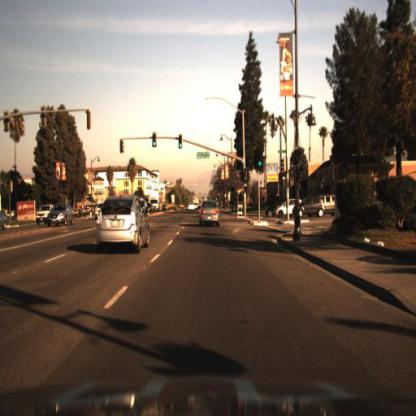car: (92, 194, 150, 252), (292, 194, 328, 219), (46, 200, 75, 231), (197, 195, 222, 228), (318, 190, 341, 217), (274, 200, 303, 220), (266, 199, 284, 221), (186, 200, 198, 216)
trafficLight: (118, 135, 126, 156)
trafficLight-Green: (255, 147, 265, 171), (243, 168, 251, 185), (152, 133, 160, 149), (178, 136, 184, 154), (153, 133, 159, 150)
